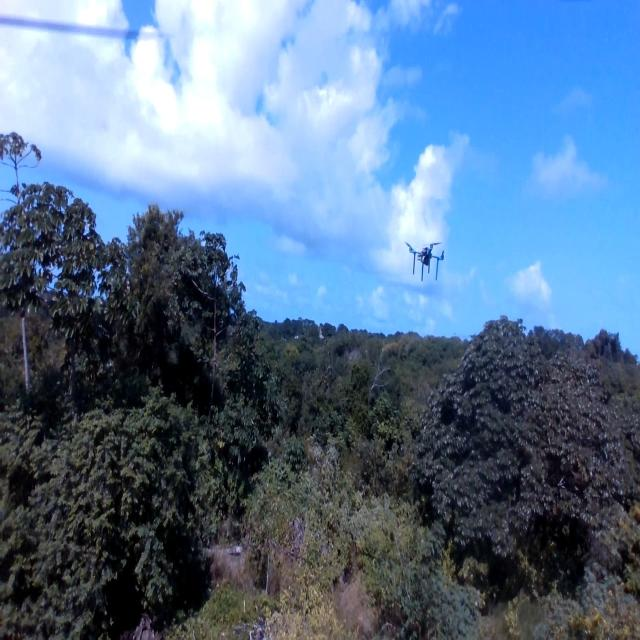-uav-: (399, 227, 447, 286)
